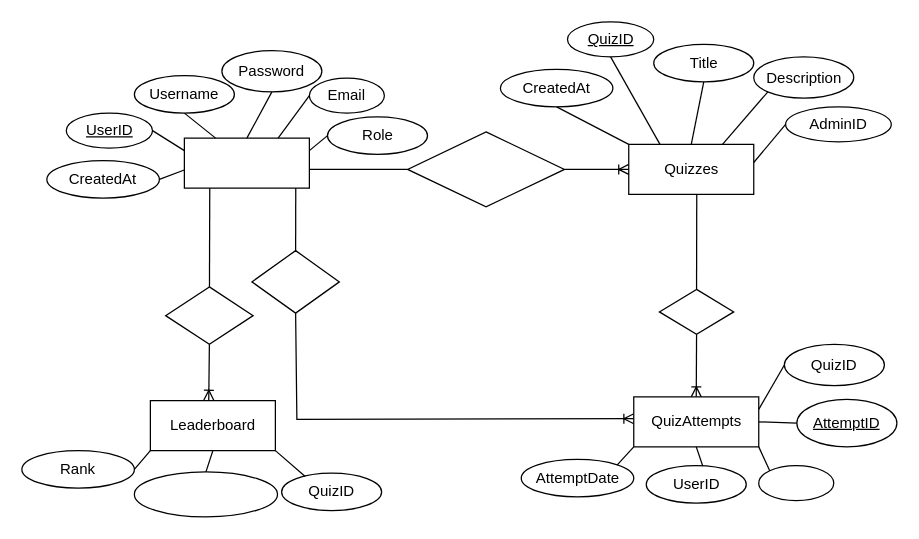
This 919x539 diagram has some shape labels left out. Here are the shapes that lost their labels. From the top down, the centre of each, then its label:
At pixel 246 162: "Users".
At pixel 485 169: "Creates".
At pixel 295 281: "Attempts".
At pixel 208 315: "Appears".
At pixel 696 311: "is for".
At pixel 205 494: "LeaderboardID".
At pixel 796 482: "Score".
